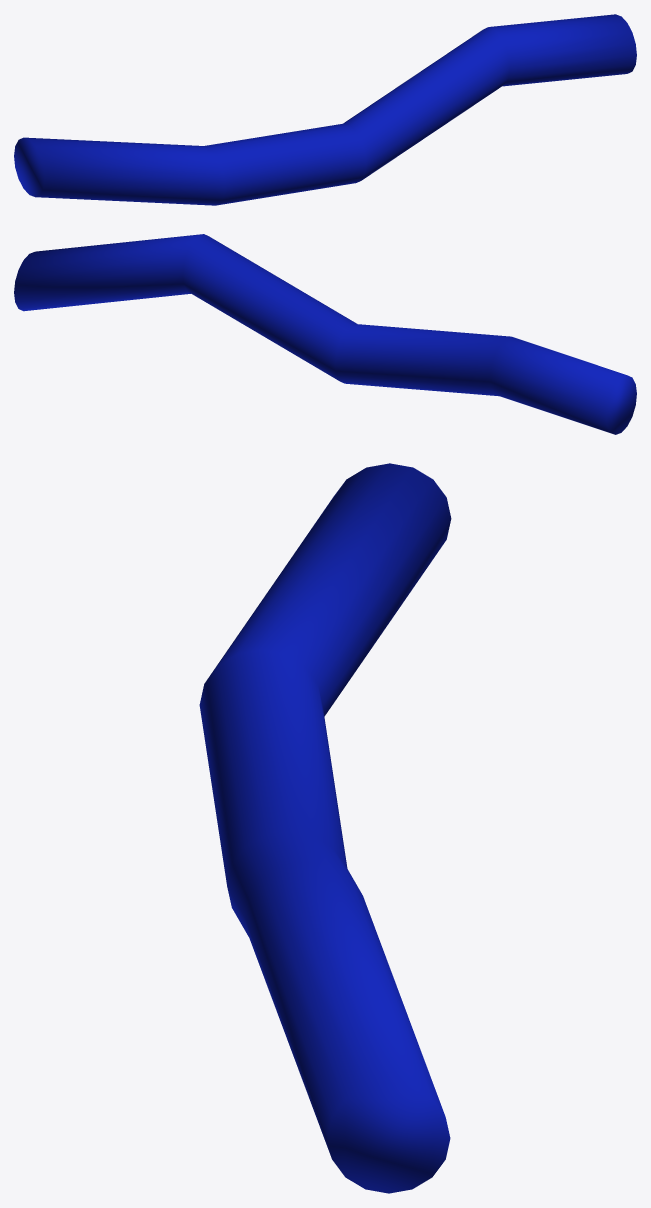
File: cableBlue4.glb
3 views of the same model, one above another, from view 1: azimuth 30°, elevation 25°; view 2: azimuth 150°, elevation 25°; view 3: azimuth 270°, elevation 25° (orthographic). The views are drawn at different scales.
Visible parts, largest first — view 1: cableBlue4; view 2: cableBlue4; view 3: cableBlue4.
Part boxes in pixels (left/top/right/bottom): cableBlue4: left=14, top=14, right=636, bottom=205; cableBlue4: left=14, top=234, right=636, bottom=434; cableBlue4: left=199, top=463, right=451, bottom=1193.
Size of the model in its own units: 2 by 0.3625 by 0.3683.
